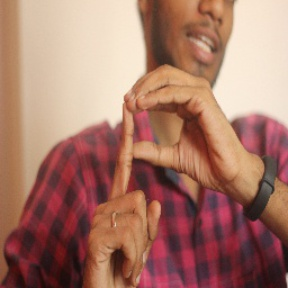P: (86, 64, 233, 251)
